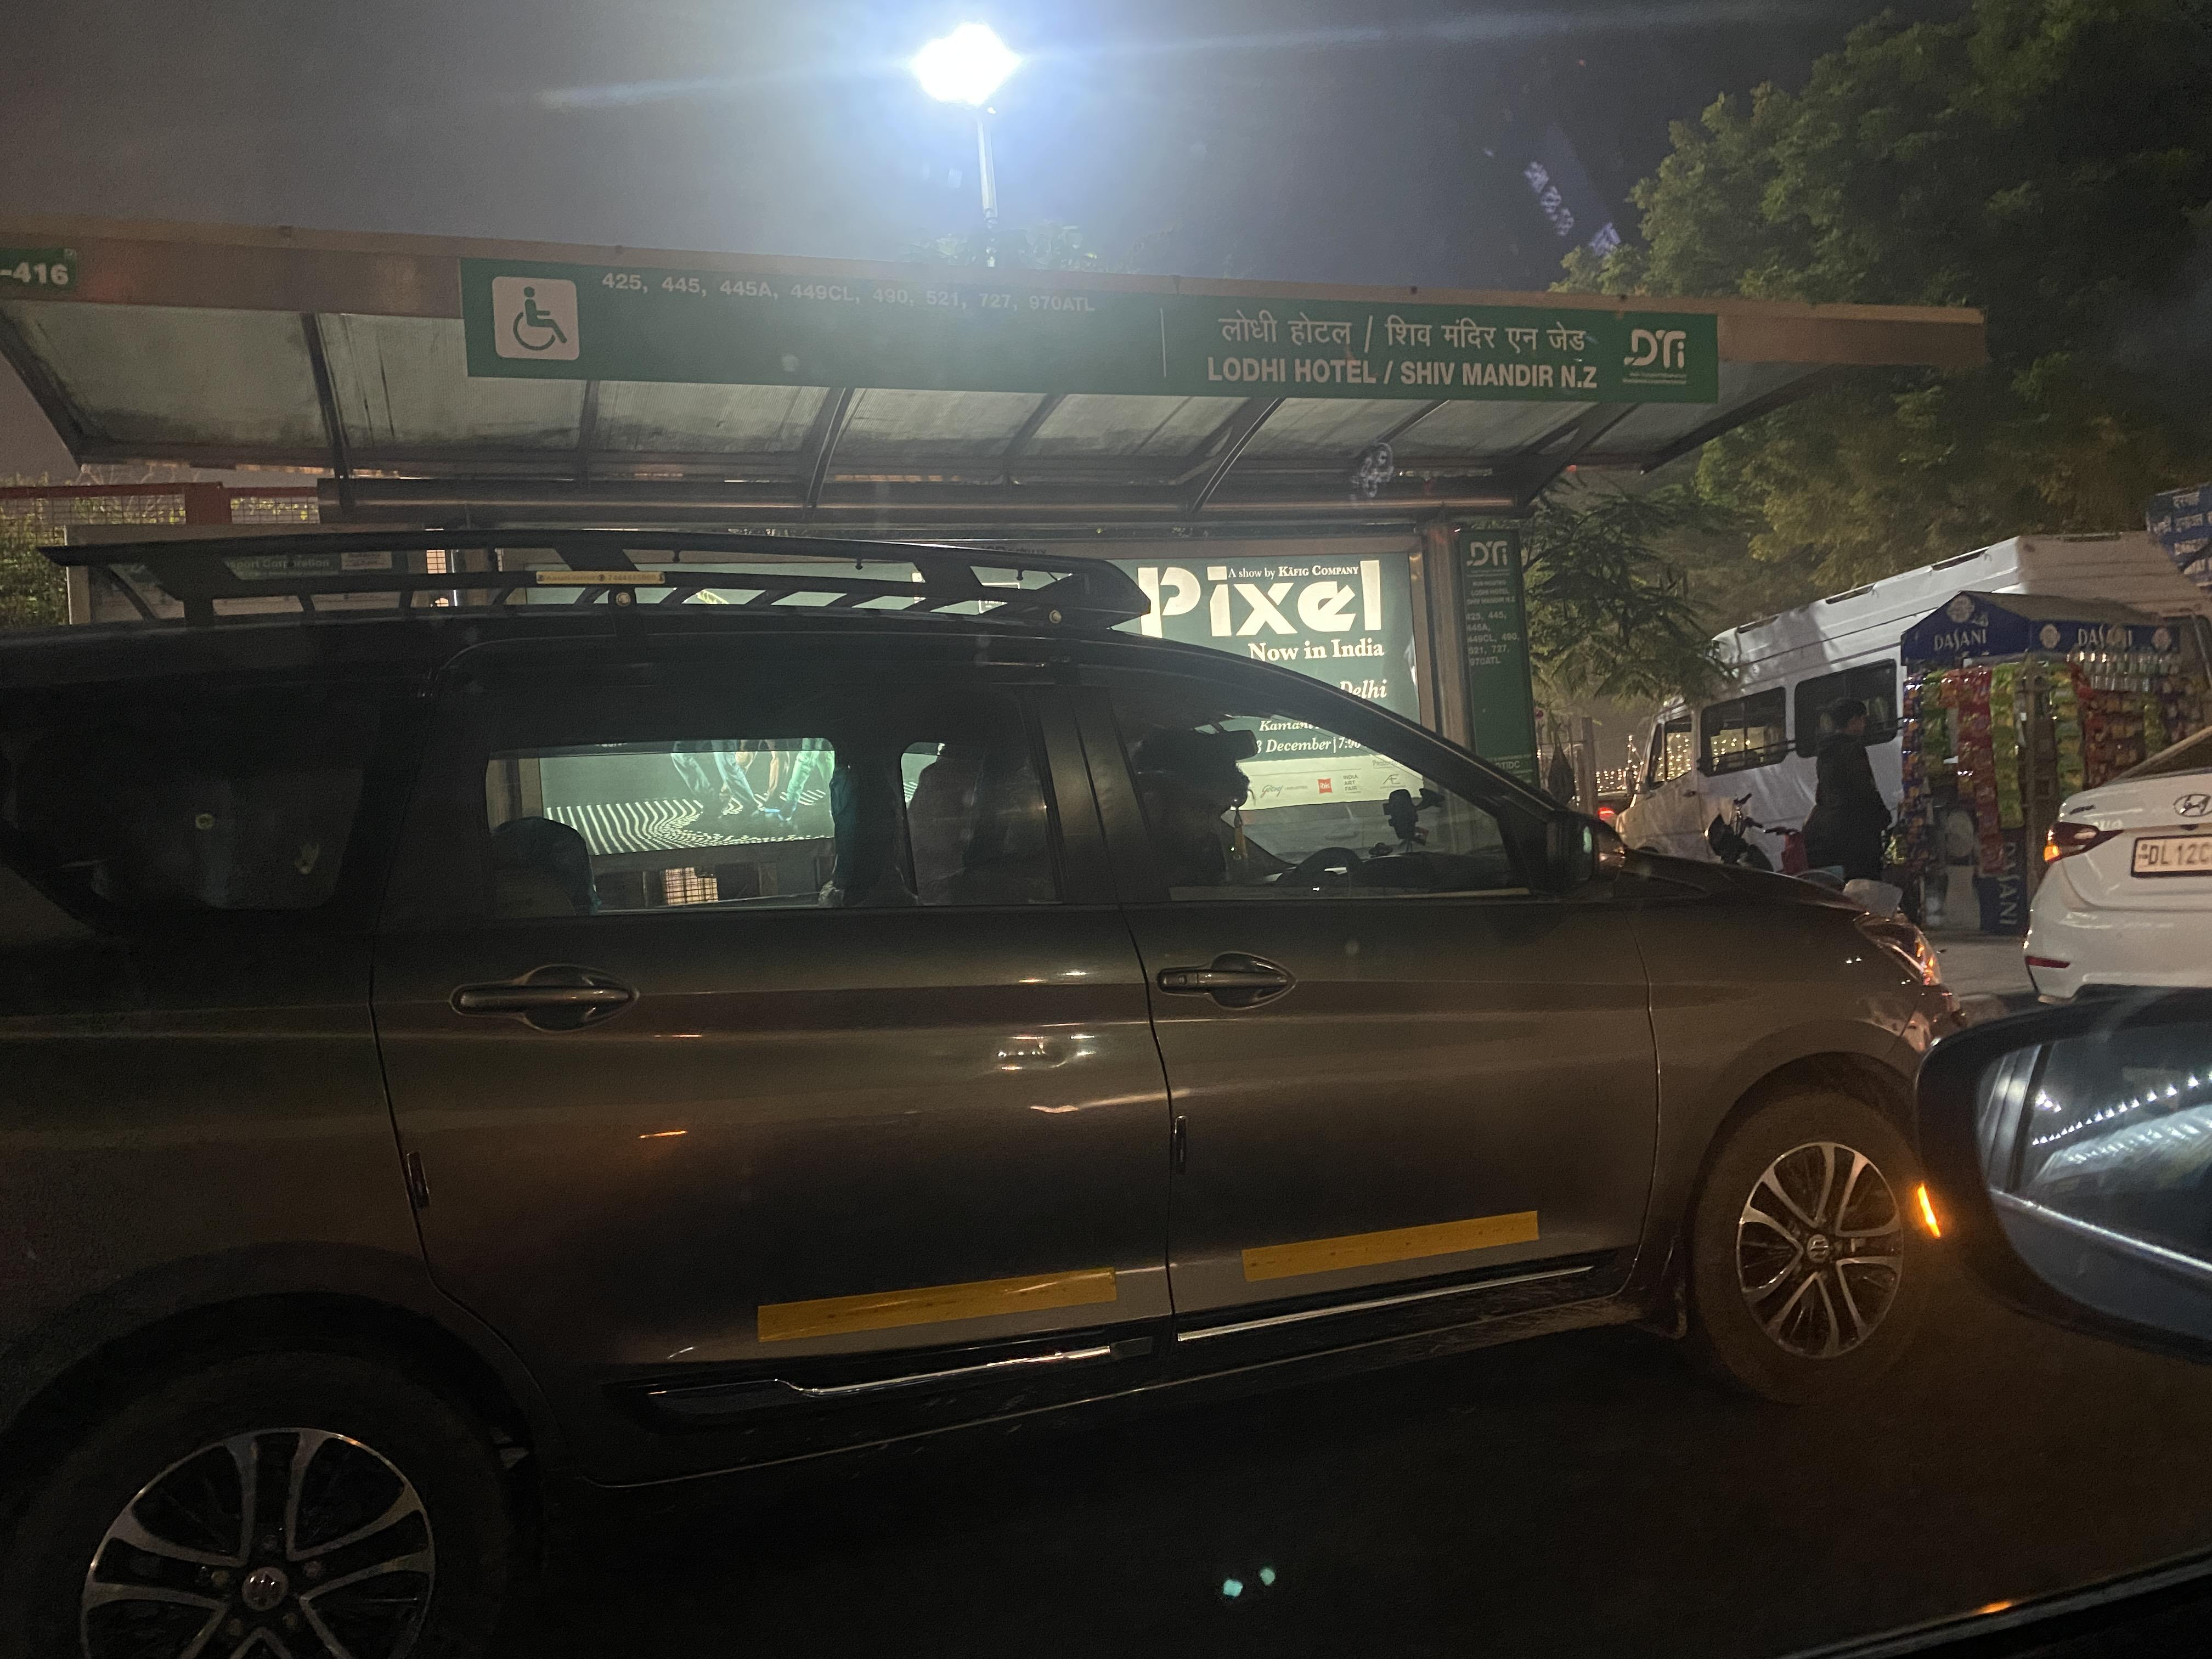Bus-stop-board: (455, 253, 1745, 439)
